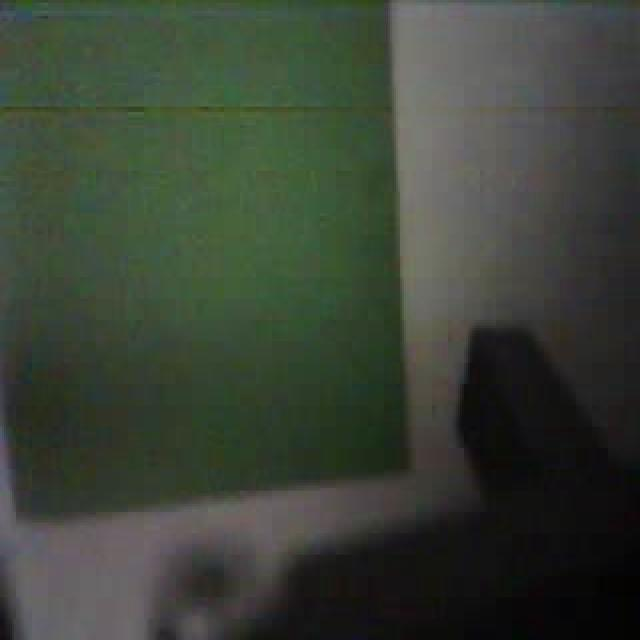green_box: (0, 0, 410, 517)
